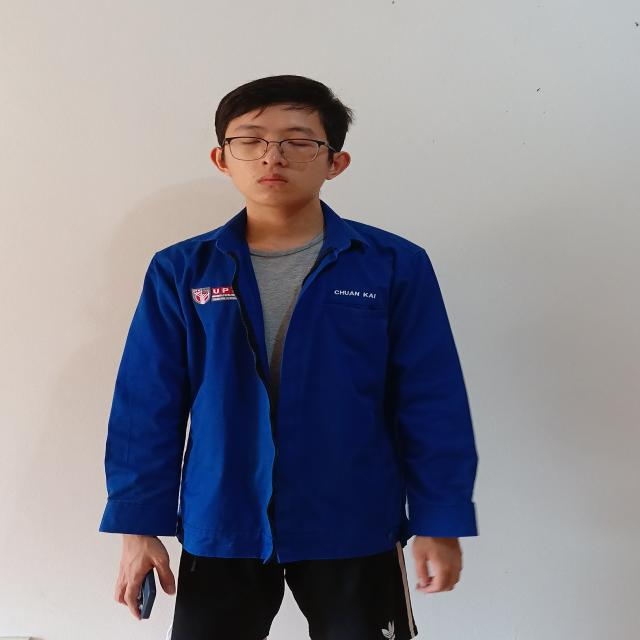person_with_labcoat: (100, 76, 477, 640)
